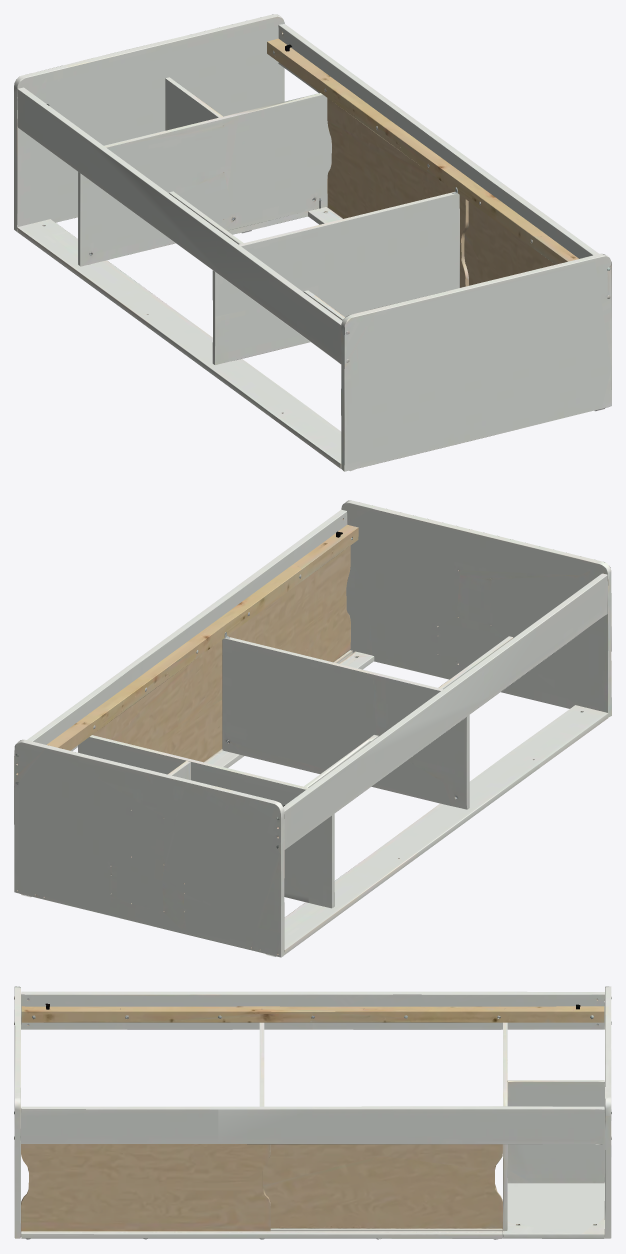
File: klippuggla_rama_ozka_z_pojemnikami_19627346.glb
3 views of the same model, one above another, from view 1: azimuth 30°, elevation 25°; view 2: azimuth 150°, elevation 25°; view 3: azimuth 270°, elevation 25° (orthographic). The views are drawn at different scales.
Parts seen in each view (by area): view 1: klippuggla_rama_ozka_z_pojemnikami_19627346; view 2: klippuggla_rama_ozka_z_pojemnikami_19627346; view 3: klippuggla_rama_ozka_z_pojemnikami_19627346.
Part boxes in pixels (x1=…): klippuggla_rama_ozka_z_pojemnikami_19627346: x1=14, y1=14, x2=611, y2=471; klippuggla_rama_ozka_z_pojemnikami_19627346: x1=14, y1=500, x2=611, y2=957; klippuggla_rama_ozka_z_pojemnikami_19627346: x1=14, y1=986, x2=611, y2=1239.
Bounding box in the file's own units: 0.9601 × 0.5289 × 2.06.
Materials: 1 (1 with a texture image).
